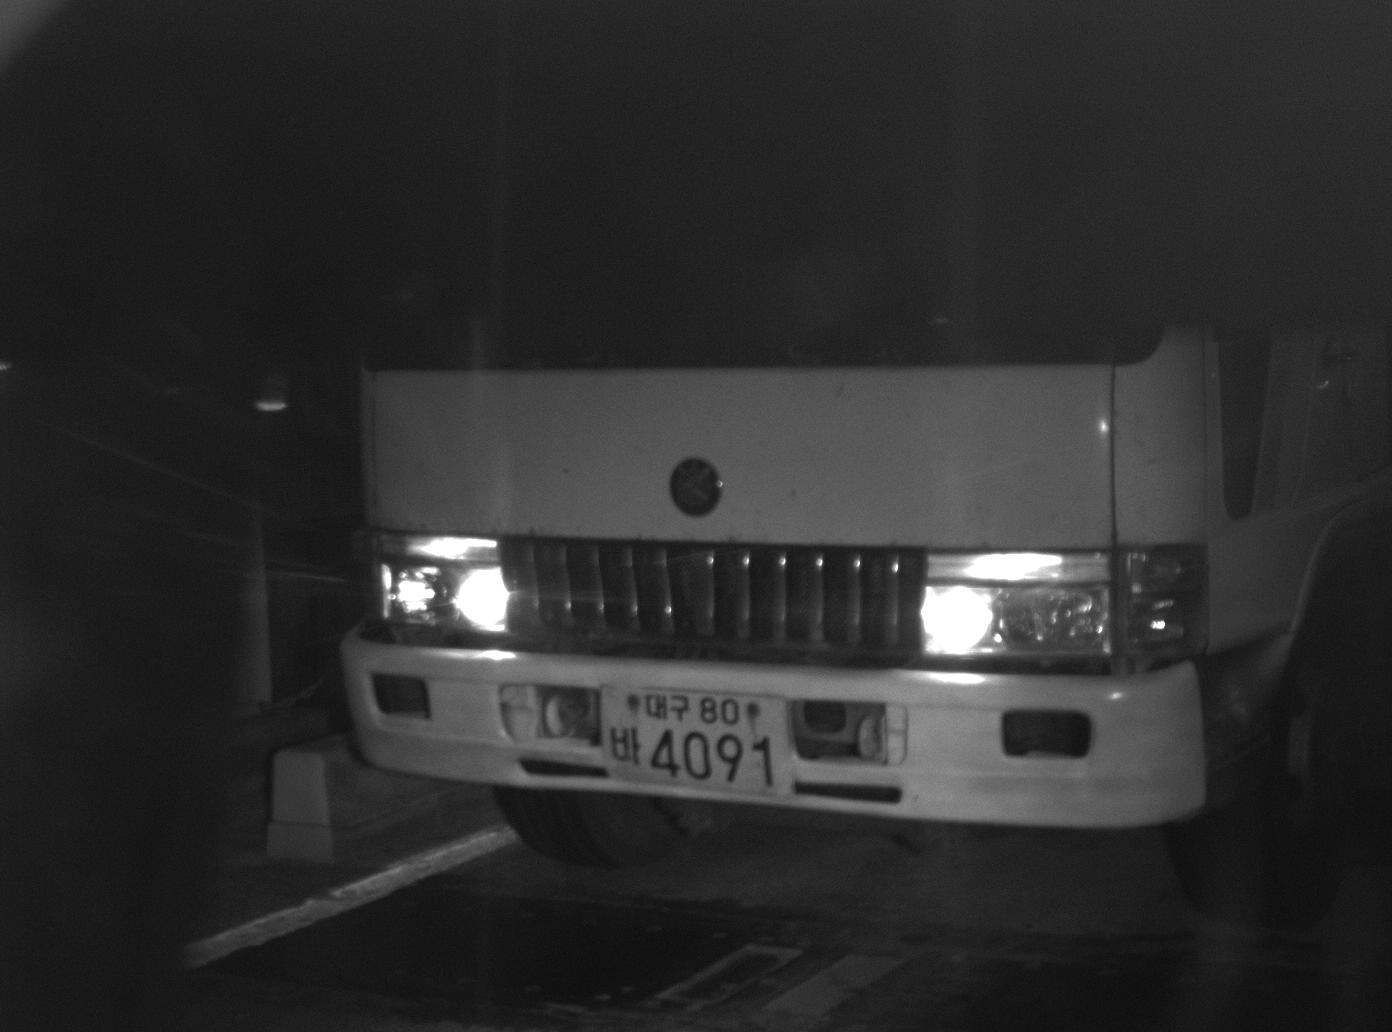car: (339, 368, 1392, 923)
plate: (599, 687, 793, 801)
